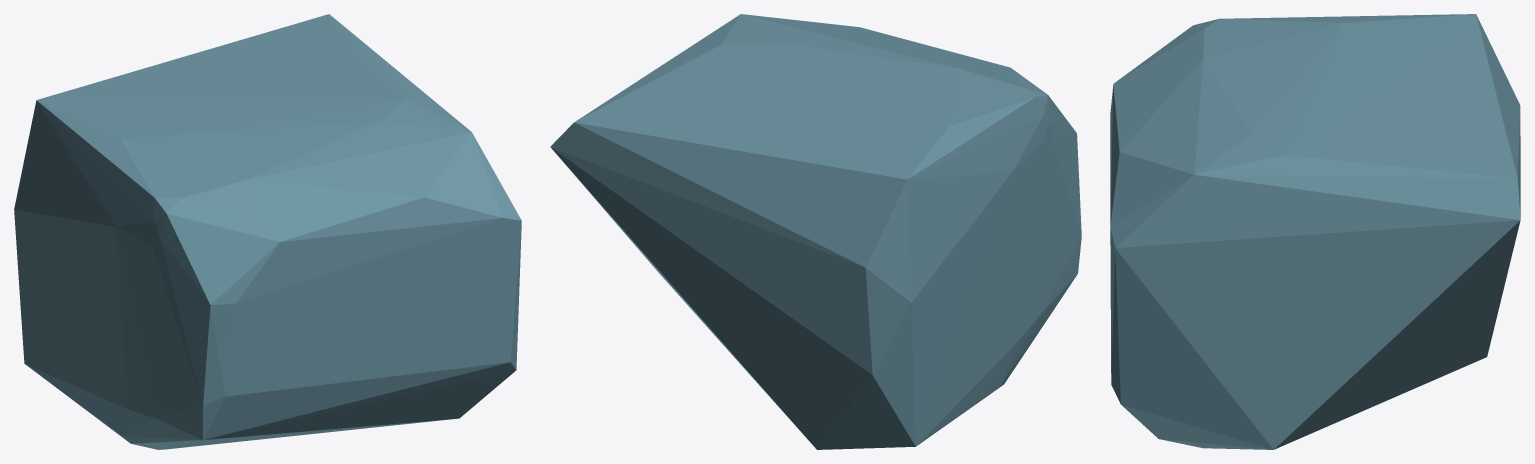
The model's file is pallet_assembly_transparent_a06.glb.
3 renders of one model, left to right at view 1: azimuth 30°, elevation 25°; view 2: azimuth 150°, elevation 25°; view 3: azimuth 270°, elevation 25°, orthographic. The views are drawn at different scales.
Visible parts, largest first — view 1: geometry_0; view 2: geometry_0; view 3: geometry_0.
Boxes of the visible parts, x1,y1,x2,y2 form: geometry_0: [14, 14, 521, 449]; geometry_0: [550, 14, 1081, 449]; geometry_0: [1110, 14, 1520, 449].
Bounding box in the file's own units: 0.4703 × 0.3644 × 0.4475.
